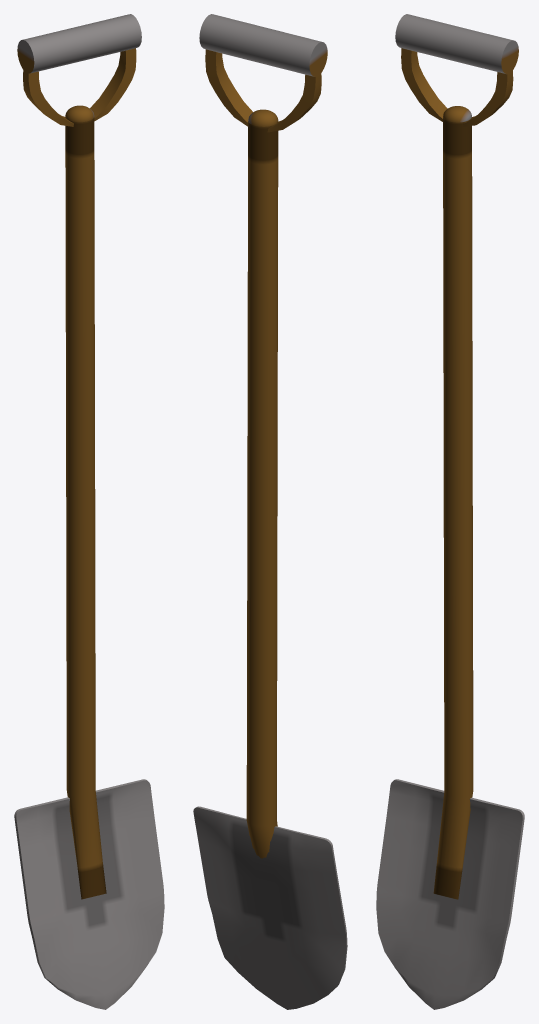
File: Shovel.fbx
3 views of the same model, side by side, from view 1: azimuth 30°, elevation 25°; view 2: azimuth 150°, elevation 25°; view 3: azimuth 330°, elevation 25° (orthographic). The views are drawn at different scales.
Parts seen in each view (by area): view 1: pCylinder46; view 2: pCylinder46; view 3: pCylinder46.
Boxes of the visible parts, box(x1,y1,x2,y2) form: pCylinder46: box(14, 14, 164, 1009); pCylinder46: box(193, 14, 347, 1009); pCylinder46: box(376, 14, 524, 1009).
Bounding box in the file's own units: 8.09 × 55.54 × 3.5.
1 material, 1 textured.
